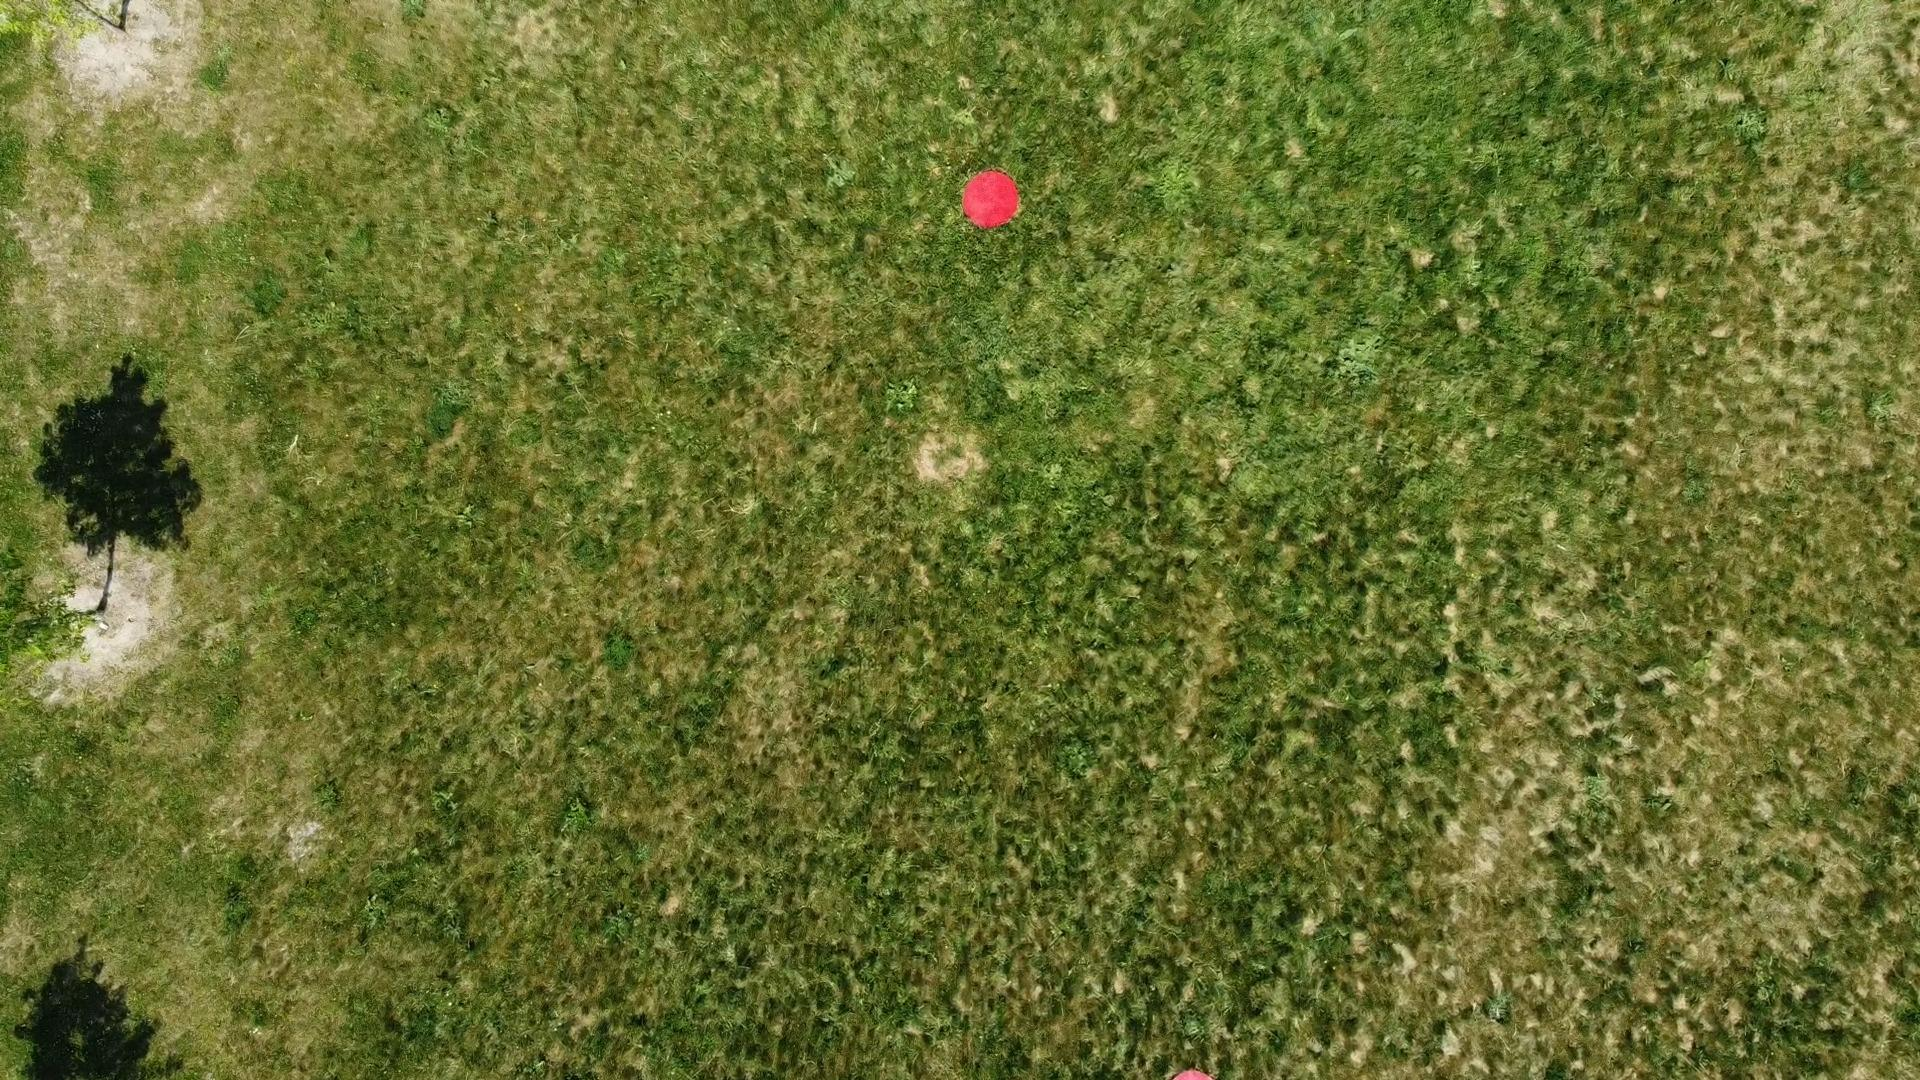Red: (960, 167, 1021, 231)
